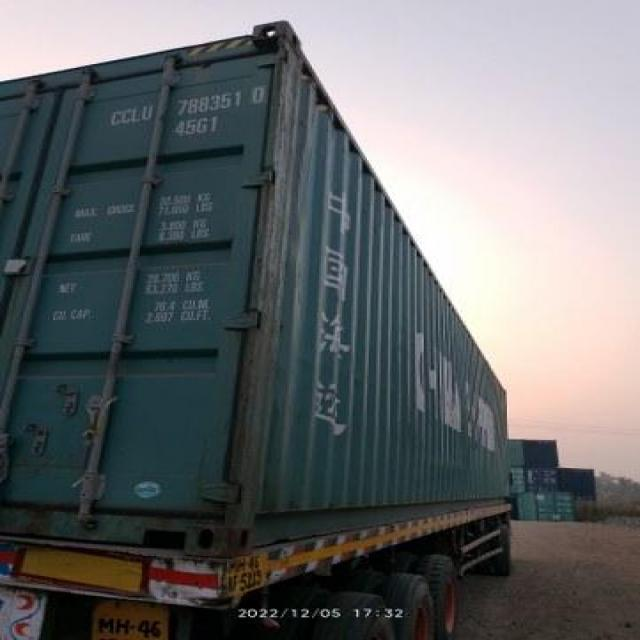ISO: (174, 117, 224, 136)
container_number: (105, 85, 262, 116)
